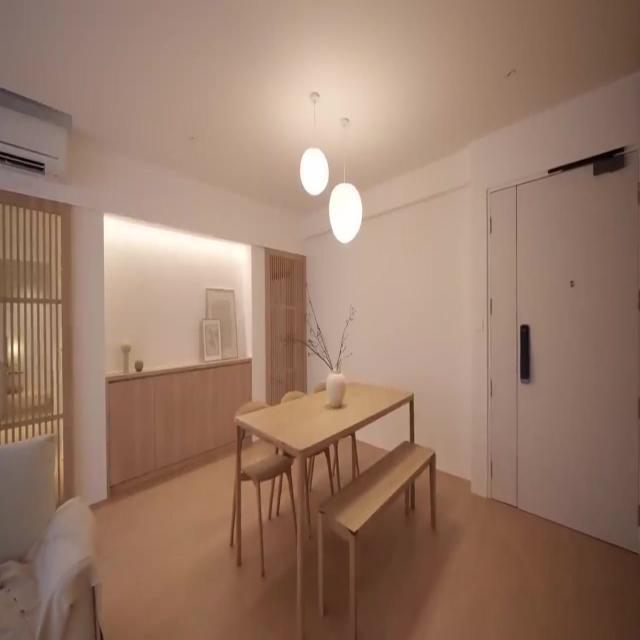door: (486, 143, 640, 554)
obstacle: (231, 380, 415, 638), (0, 431, 102, 638)
